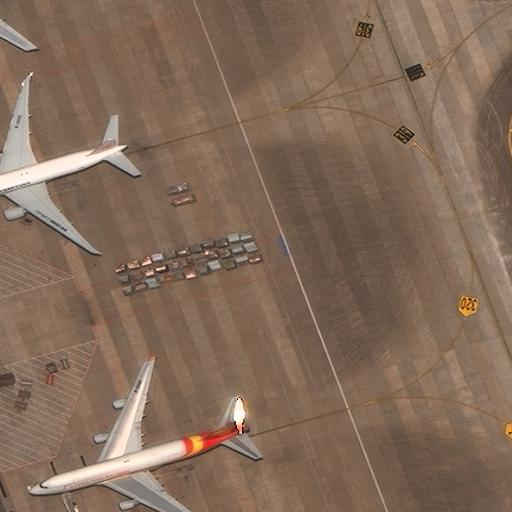Large Civil Transport: (30, 361, 254, 511), (0, 72, 131, 254), (0, 0, 44, 54)
